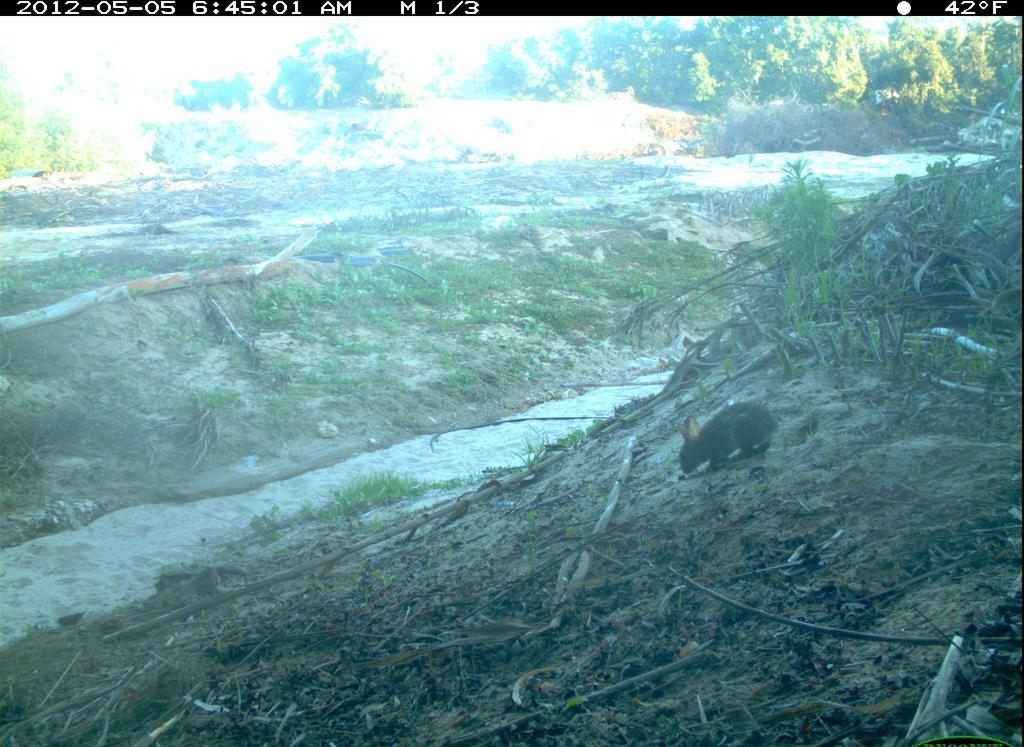rabbit: (661, 383, 799, 514)
